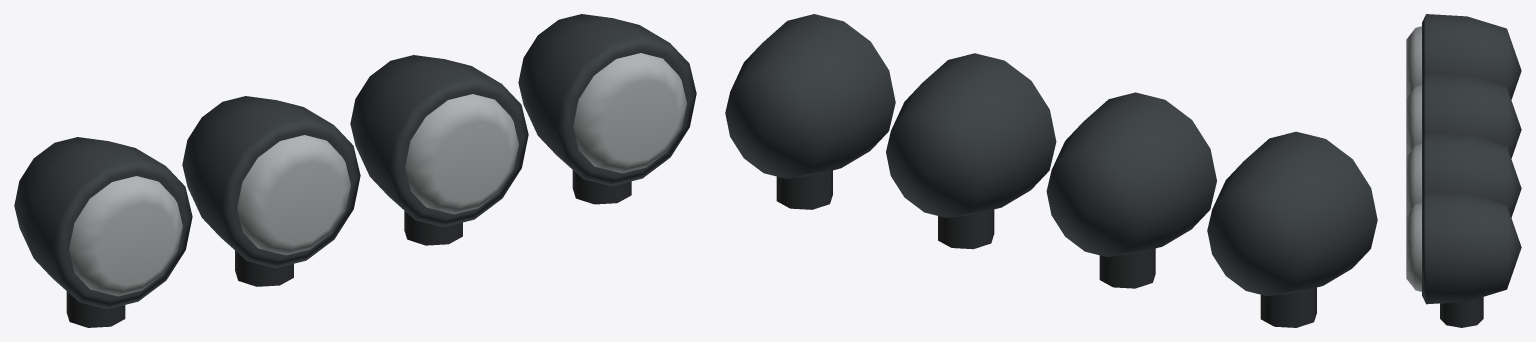
Rendered from Car_05_FogLight.fbx.
3 views of the same model, side by side, from view 1: azimuth 30°, elevation 25°; view 2: azimuth 150°, elevation 25°; view 3: azimuth 270°, elevation 25° (orthographic). The views are drawn at different scales.
Parts seen in each view (by area): view 1: Car_05_FogLight; view 2: Car_05_FogLight; view 3: Car_05_FogLight.
Part boxes in pixels (x1,y1,x2,y2): Car_05_FogLight: [14, 14, 696, 327]; Car_05_FogLight: [725, 14, 1377, 327]; Car_05_FogLight: [1406, 14, 1521, 327].
Size of the model in its own units: 85.96 by 18.57 by 21.76.
